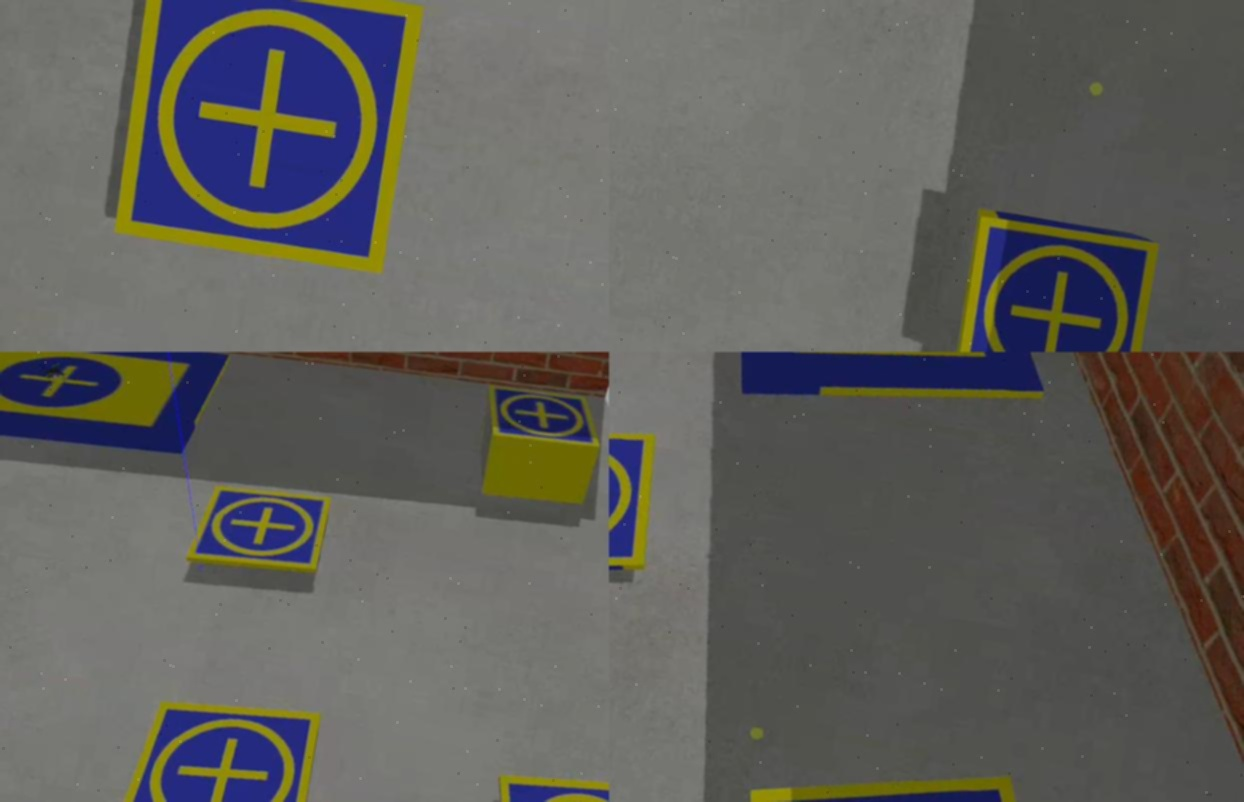large_base: (704, 353, 1072, 440), (0, 353, 232, 473)
small_base: (104, 1, 433, 279), (950, 209, 1165, 353), (716, 734, 1125, 802), (108, 680, 326, 802), (184, 476, 331, 585), (610, 406, 673, 611), (484, 382, 610, 458)
